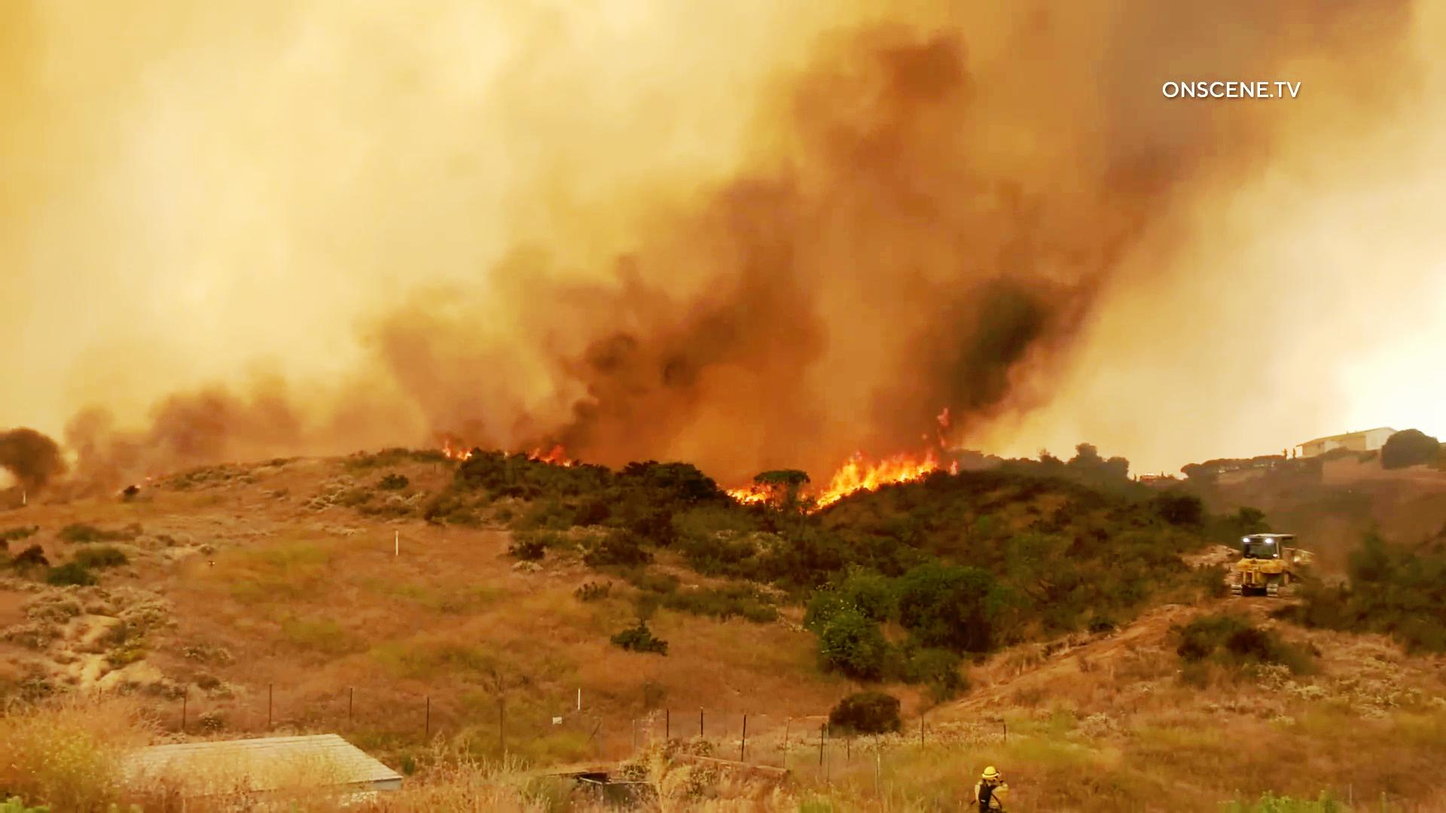fire: (807, 416, 927, 535)
smoke: (914, 119, 1040, 438), (554, 254, 755, 423)
